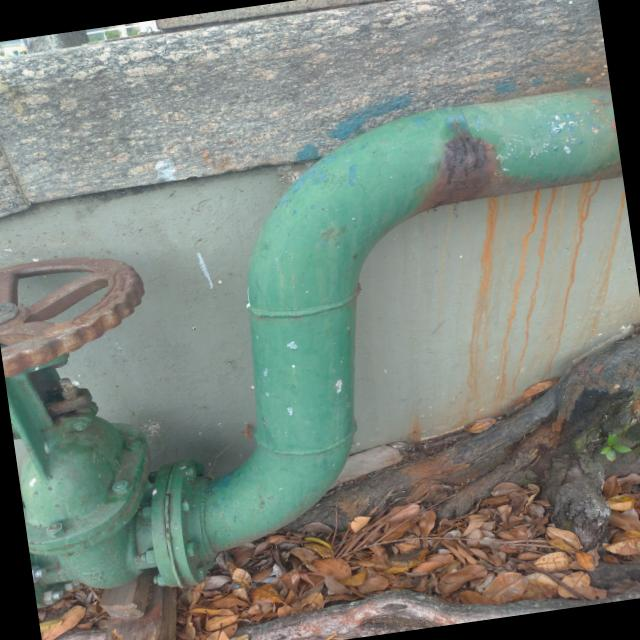gas: (26, 87, 623, 590)
